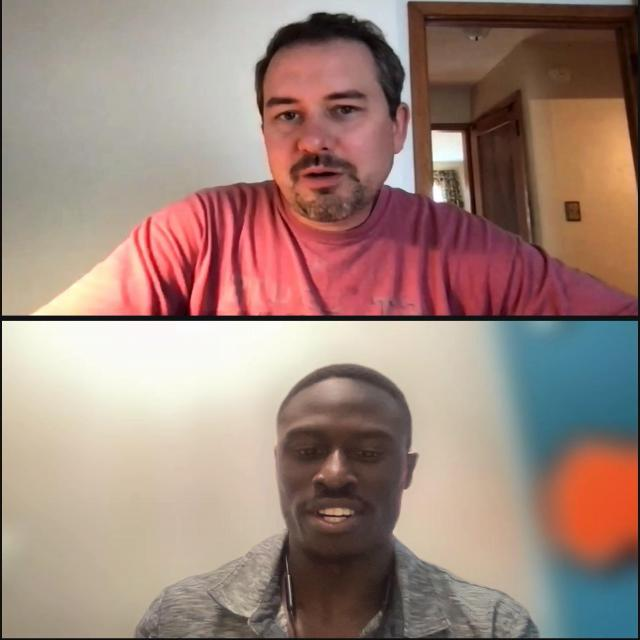face: (261, 21, 401, 223), (274, 375, 416, 564)
